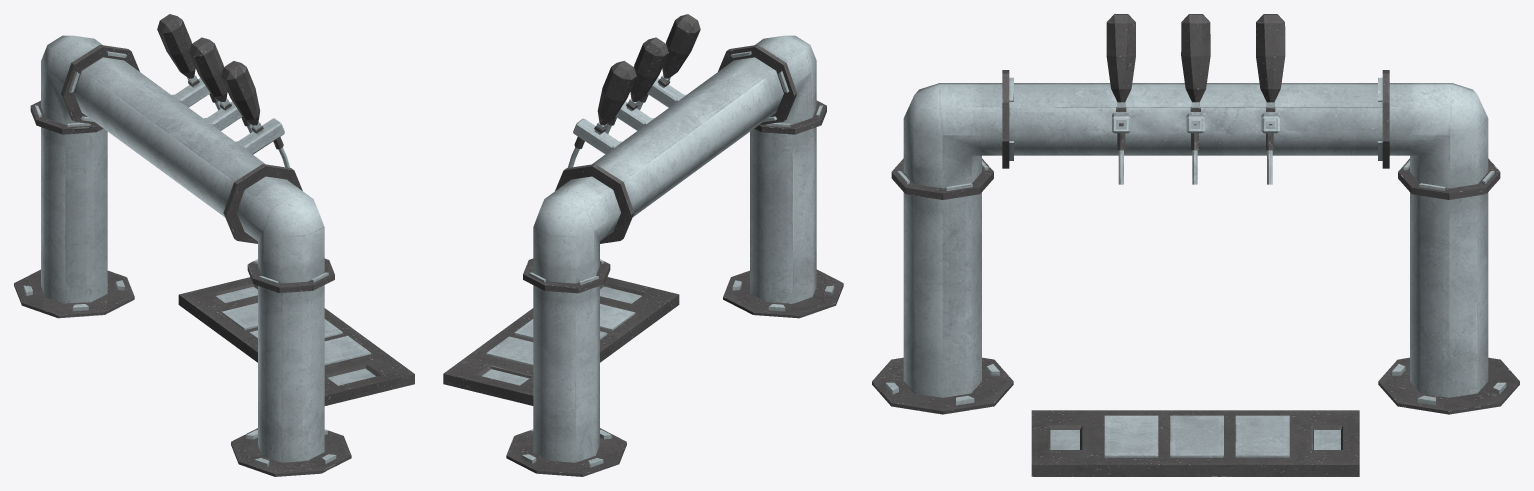
The model's file is Torneira_De_Chopp.fbx.
3 views of the same model, side by side, from view 1: azimuth 30°, elevation 25°; view 2: azimuth 150°, elevation 25°; view 3: azimuth 270°, elevation 25° (orthographic). The views are drawn at different scales.
Parts seen in each view (by area): view 1: Cube; view 2: Cube; view 3: Cube.
Part boxes in pixels (<box>): Cube: <box>14,14,414,476</box>; Cube: <box>443,14,843,476</box>; Cube: <box>872,14,1519,476</box>.
Size of the model in its own units: 353 by 515 by 791.
